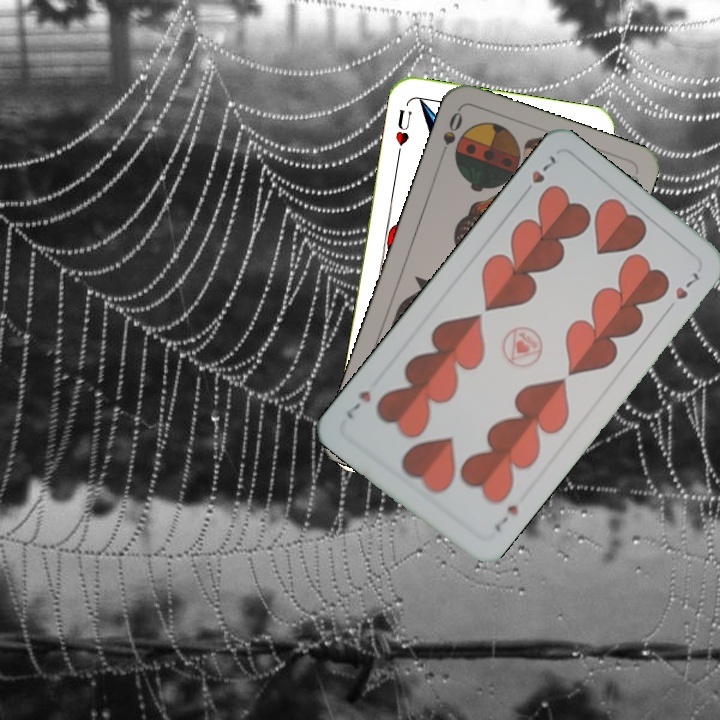H7: (519, 151, 559, 200), (489, 500, 521, 535)
HU: (391, 105, 414, 159)
SO: (435, 106, 466, 163)
